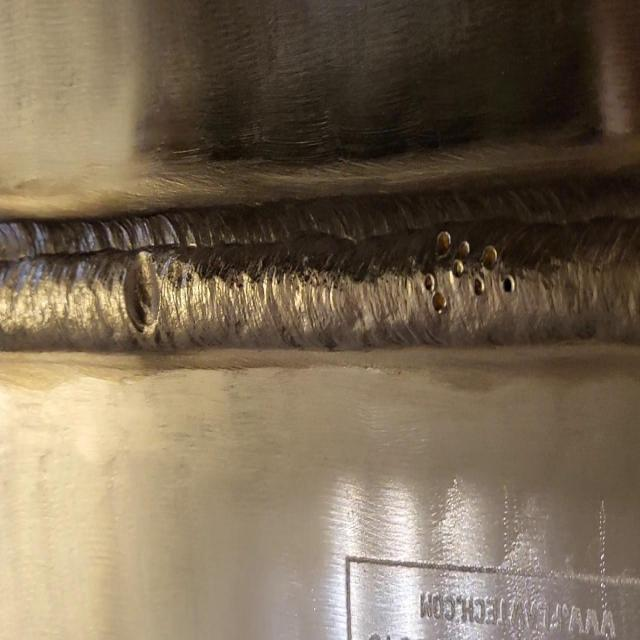Welding Line: (0, 220, 640, 346)
Workpiece: (1, 3, 640, 640)
porosity: (424, 228, 516, 316), (122, 248, 160, 331)
